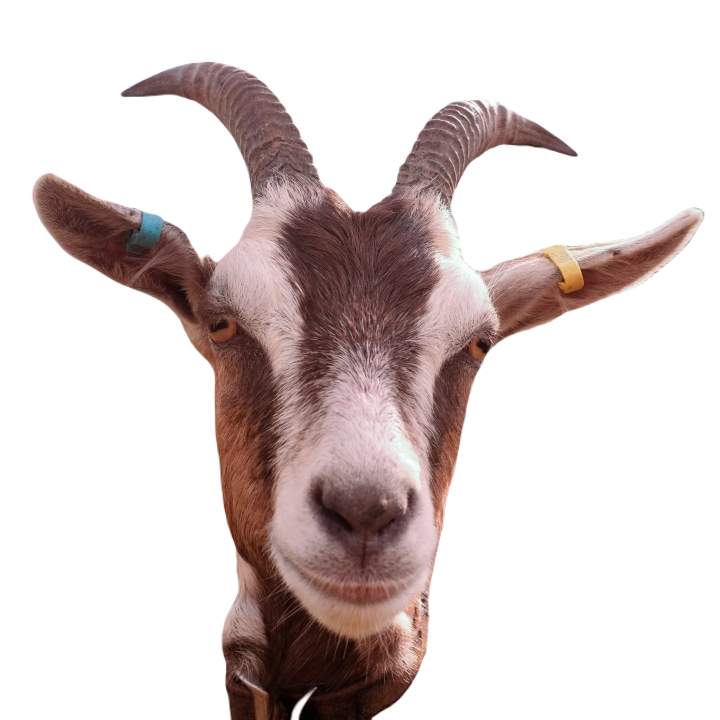Goat: (30, 57, 705, 719)
